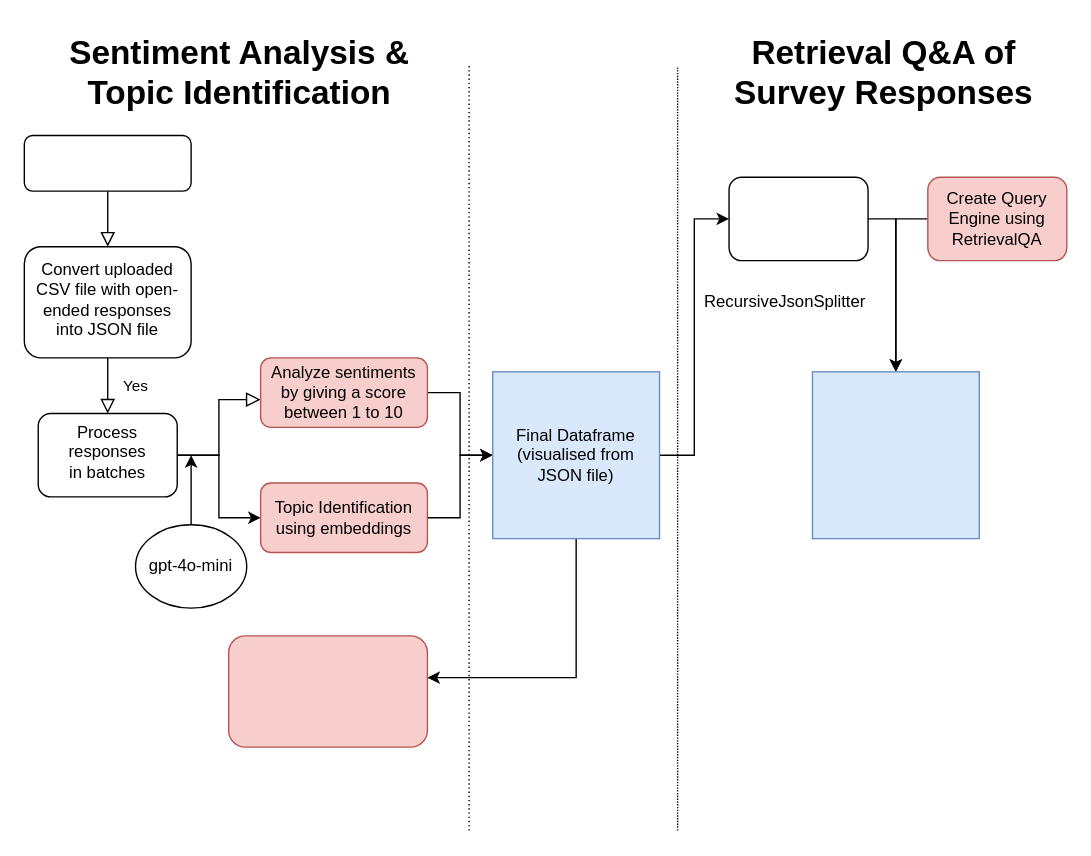
This 1091x856 diagram has some shape labels left out. Each missing label, with the centre of its shape:
"Analytics of Results and Summarisation for each identified Topic" belongs at (x=327, y=691).
"Create Vector DB of JSON file" belongs at (x=798, y=218).
"START" belongs at (x=107, y=162).
"Survey Responses Query with Sources shown" belongs at (x=895, y=454).
